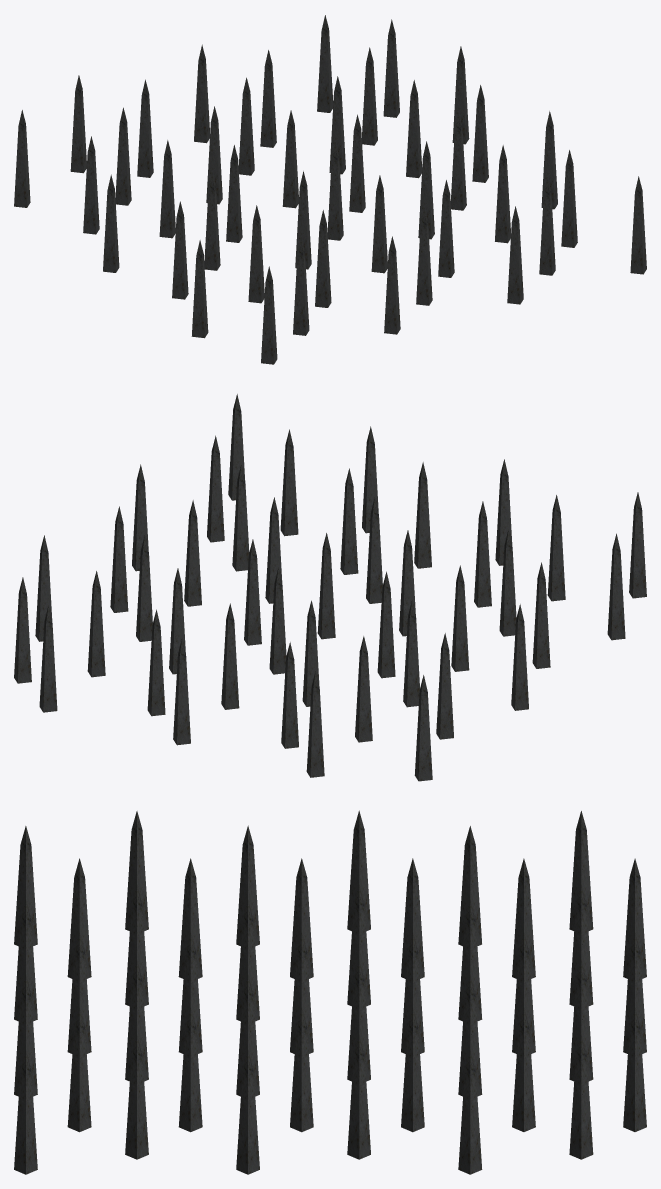
The model's file is Trap_Floor_Spikes.FBX.
3 renders of one model, top to bottom at view 1: azimuth 30°, elevation 25°; view 2: azimuth 150°, elevation 25°; view 3: azimuth 270°, elevation 25°, orthographic. The views are drawn at different scales.
Visible parts, largest first — view 1: Trap_Floor_Spikes; view 2: Trap_Floor_Spikes; view 3: Trap_Floor_Spikes.
Part boxes in pixels (x1,y1,x2,y2): Trap_Floor_Spikes: [14, 15, 646, 364]; Trap_Floor_Spikes: [14, 394, 646, 781]; Trap_Floor_Spikes: [14, 810, 646, 1174].
Size of the model in its own units: 267 by 59.21 by 285.
